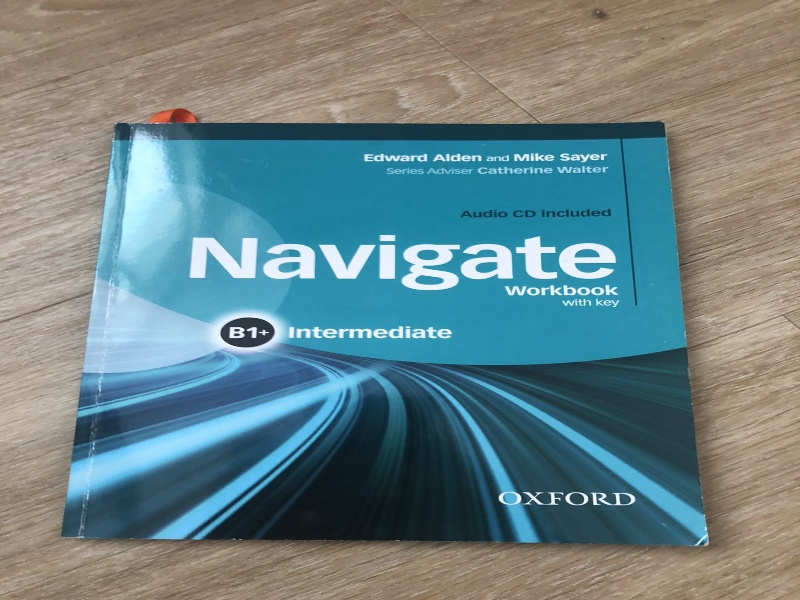document: (61, 118, 698, 537)
